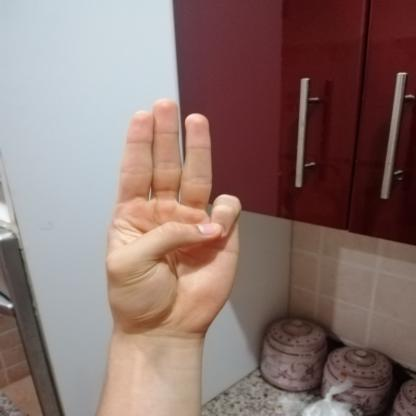THA: (88, 86, 255, 348)
